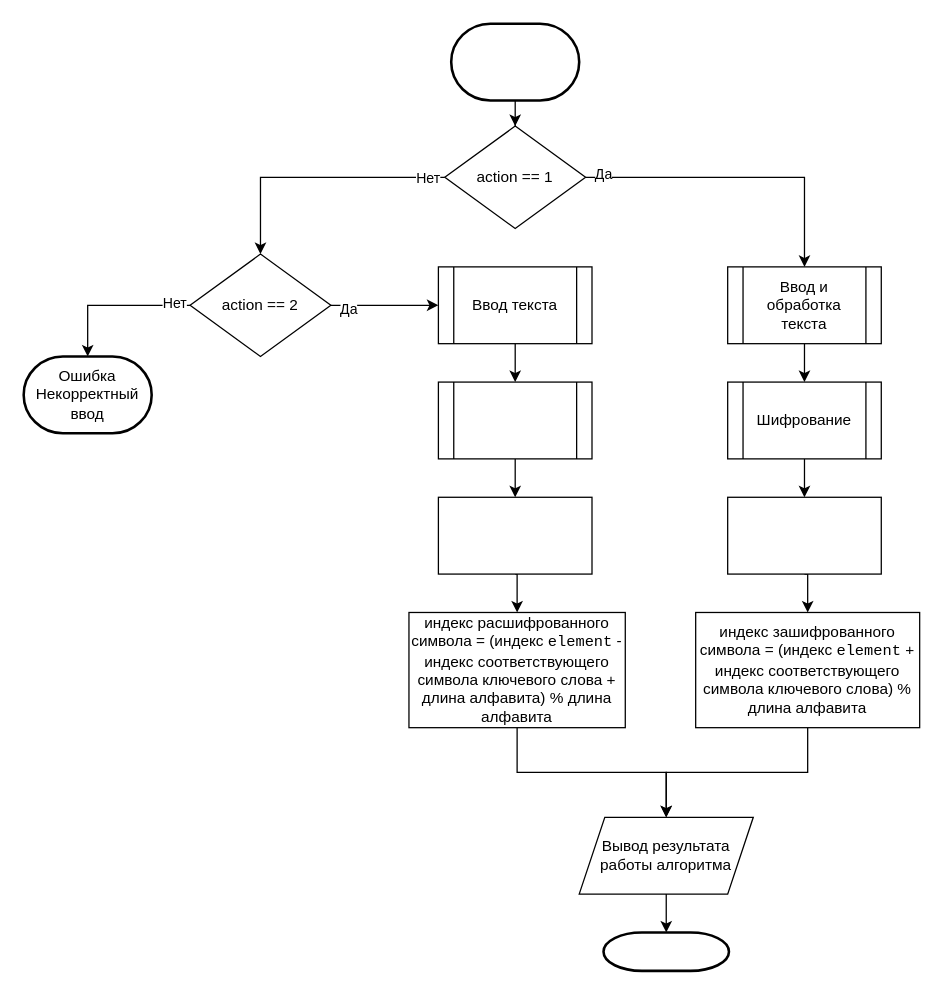
Image size: 942x993. Some labels were removed from this diagram. Each missing label, with the box of its shape:
Конец работы: (602, 931, 730, 972)
Начало работы: (449, 22, 580, 101)
Получение : element = текущий символ открытого текста: (726, 496, 881, 574)
Получение : element = текущий символ шифртекста: (437, 496, 592, 574)
Расшифрование: (437, 381, 592, 459)
